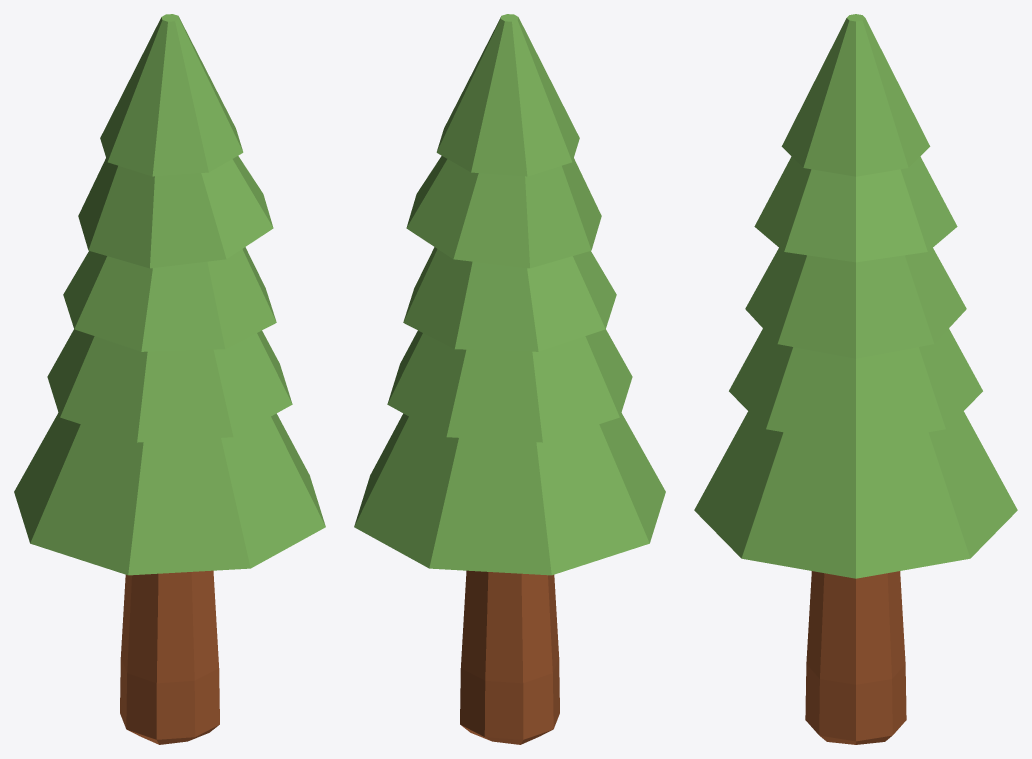
File: lowtree.fbx
3 renders of one model, left to right at view 1: azimuth 30°, elevation 25°; view 2: azimuth 150°, elevation 25°; view 3: azimuth 270°, elevation 25°, orthographic.
Parts seen in each view (by area): view 1: Circle, Cube; view 2: Circle, Cube; view 3: Circle, Cube.
Boxes of the visible parts, box(x1,y1,x2,y2) form: Circle: box(14, 14, 325, 575); Cube: box(120, 570, 219, 744); Circle: box(354, 14, 665, 575); Cube: box(460, 570, 559, 744); Circle: box(694, 14, 1017, 578); Cube: box(805, 571, 906, 744).
Size of the model in its own units: 557 by 1354 by 557.
